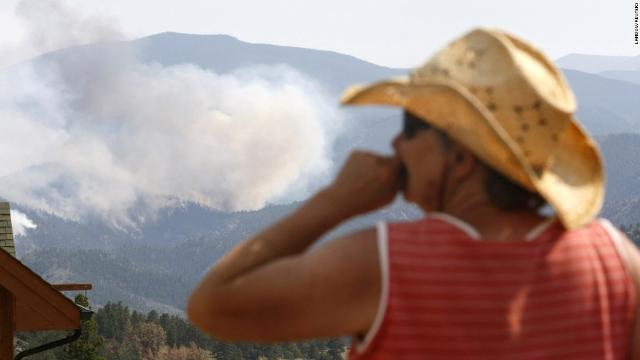smoke: (1, 1, 347, 219)
